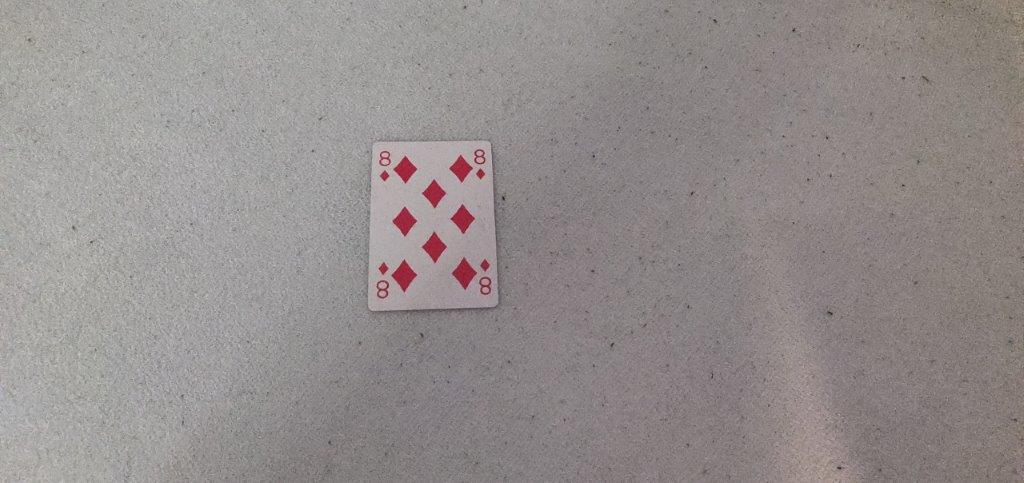8D: (471, 146, 490, 183), (376, 148, 394, 184)
